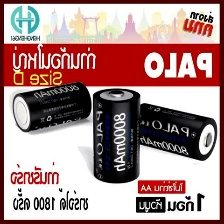battery: (129, 100, 218, 161), (92, 87, 143, 184), (9, 79, 92, 137)
